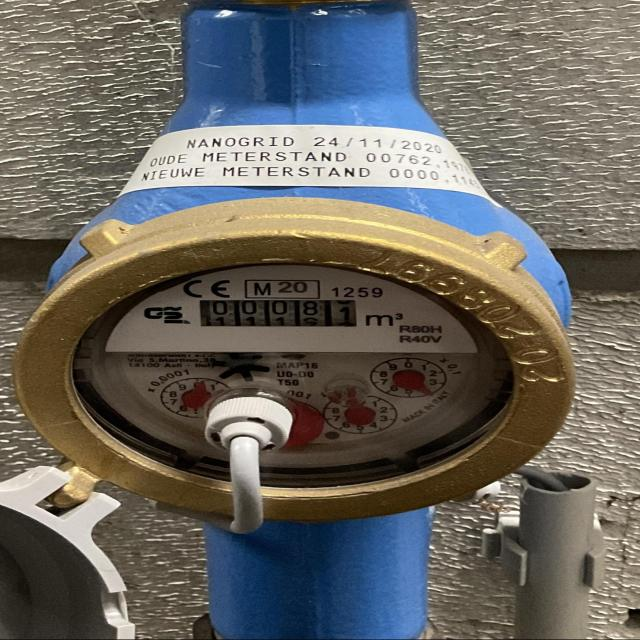gaz_meter: (98, 258, 497, 473)
indication: (193, 295, 364, 328)
